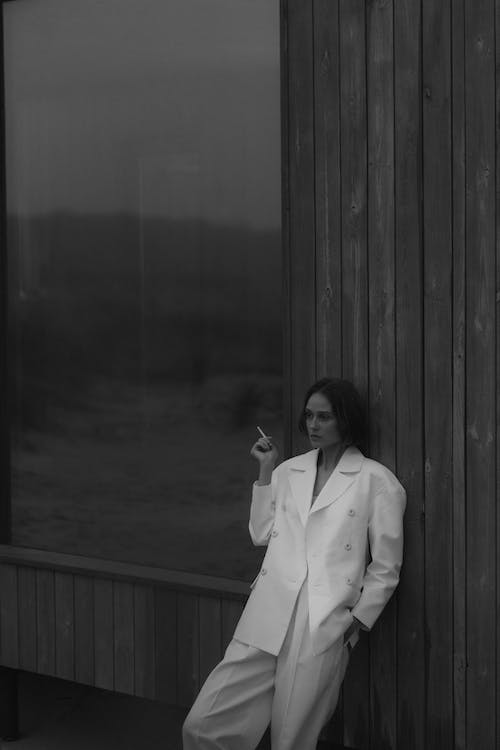cigarette: (255, 421, 269, 441)
